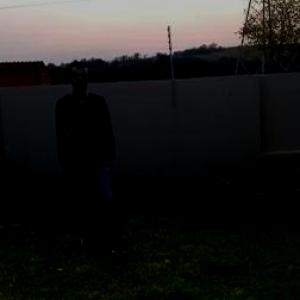follow: (53, 59, 118, 256)
